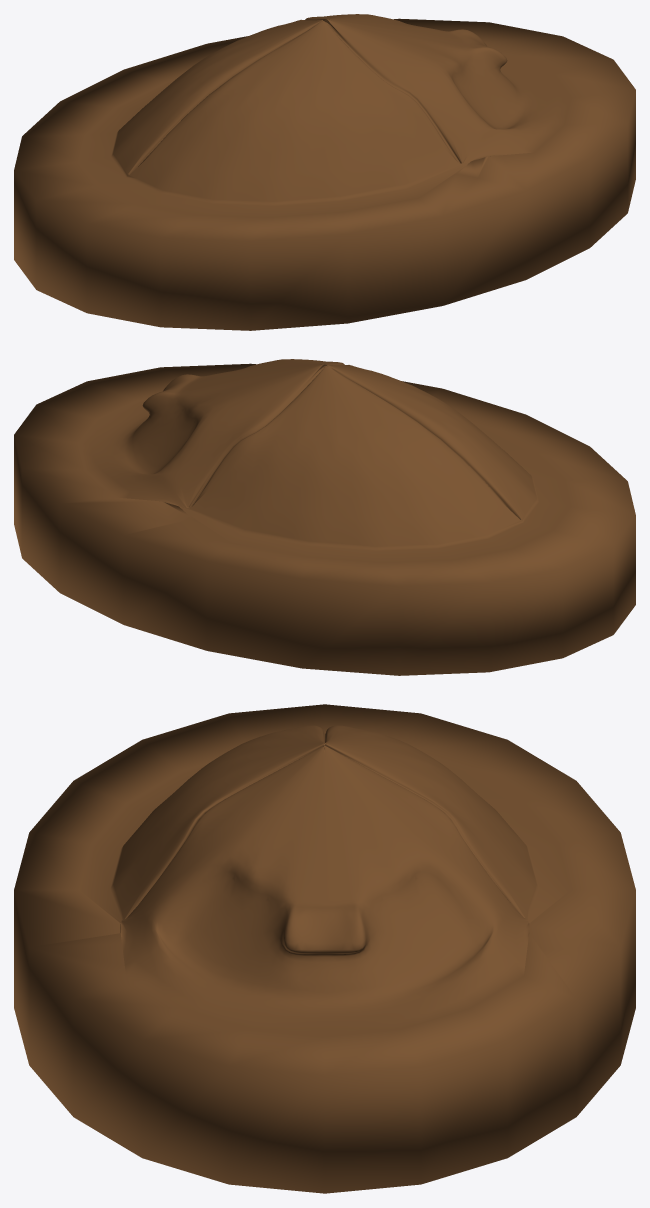
The model's file is Bronze Heart Scarab.fbx.
3 views of the same model, one above another, from view 1: azimuth 30°, elevation 25°; view 2: azimuth 150°, elevation 25°; view 3: azimuth 270°, elevation 25° (orthographic). The views are drawn at different scales.
Visible parts, largest first — view 1: pCylinder1; view 2: pCylinder1; view 3: pCylinder1.
Part boxes in pixels (x1,y1,x2,y2): pCylinder1: (14, 14, 635, 330); pCylinder1: (14, 359, 635, 675); pCylinder1: (14, 704, 635, 1193).
Size of the model in its own units: 6.61 by 2.19 by 4.68.
1 material, 1 textured.
